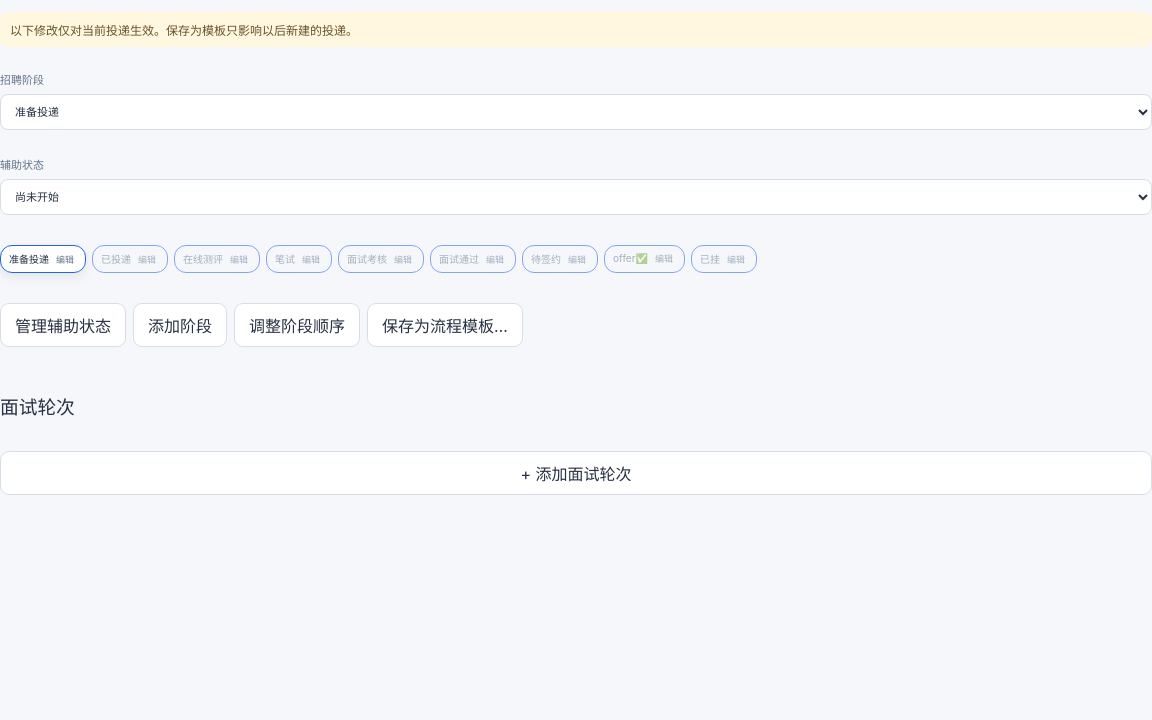
record-scoped workflow forms › saves a complete stage permutation only after explicit confirmation and keeps failures editable
Step 1. Click the button "调整阶段顺序" → coordinates (297, 325), box [234,303,360,347]
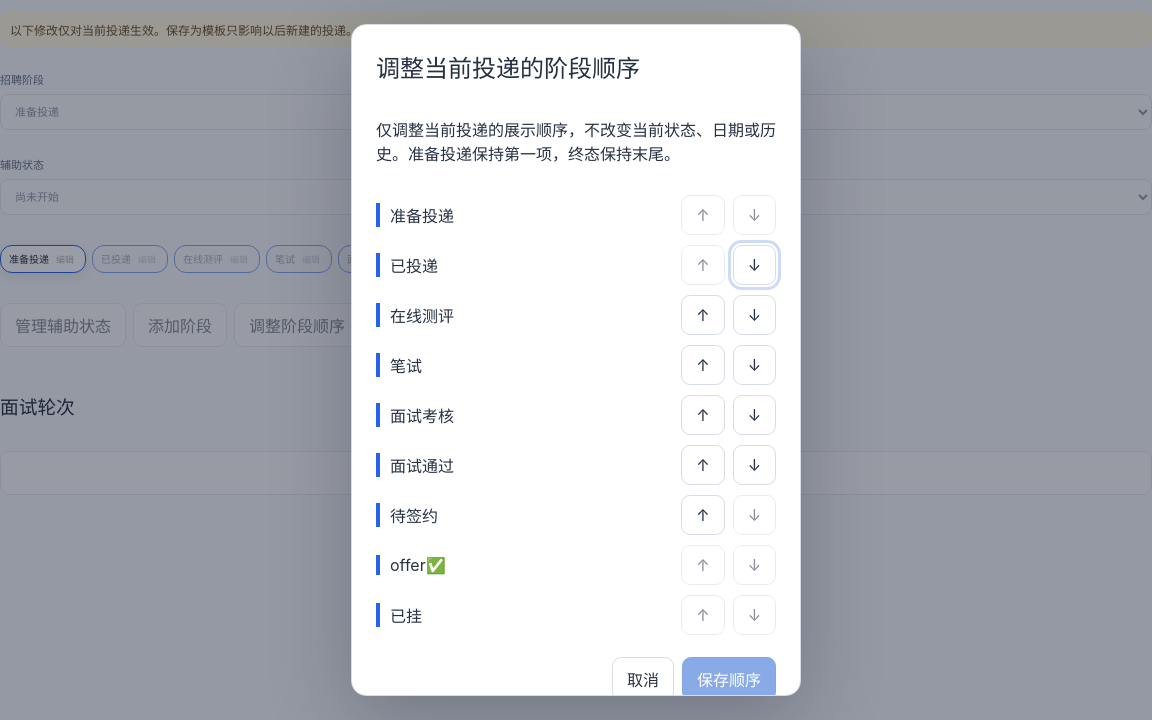
Expected: the button named "下移 待签约" is disabled, [733,495,776,535]
Now the button named "上移 准备投递" is disabled, box [681,195,725,235]
Step 2. Click the button named "上移 面试考核" → coordinates (703, 415), box [681,395,725,435]
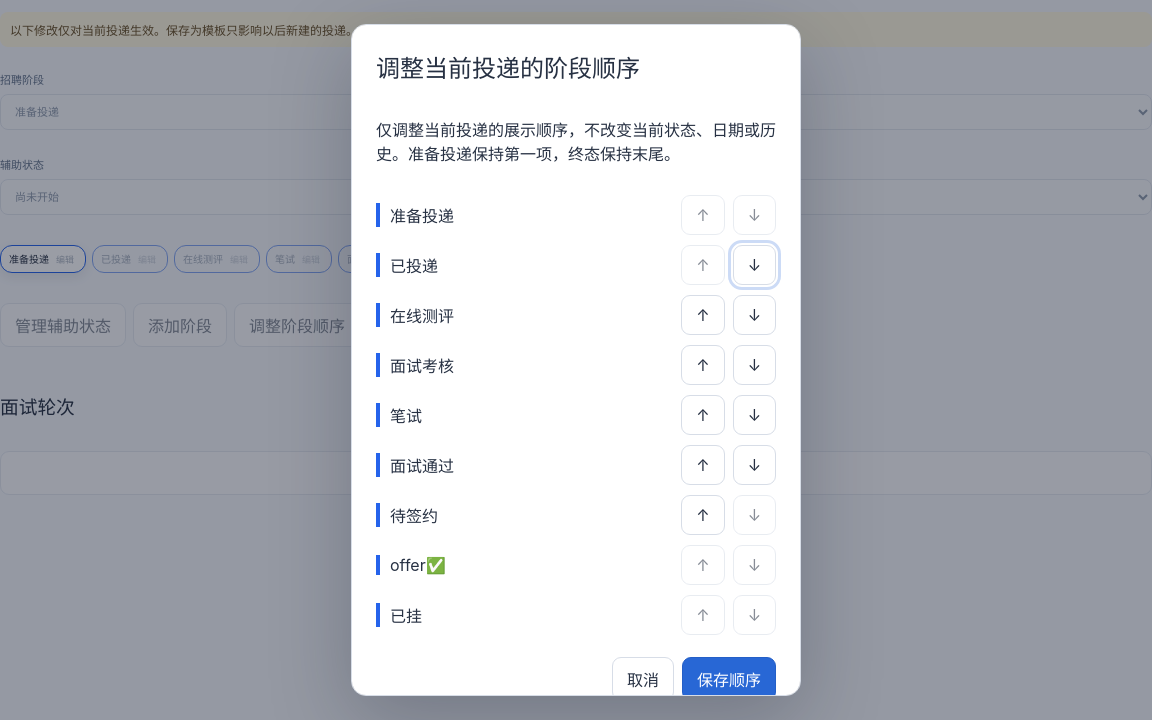
Step 3. Click the button "取消" → coordinates (643, 679), box [612,657,674,701]
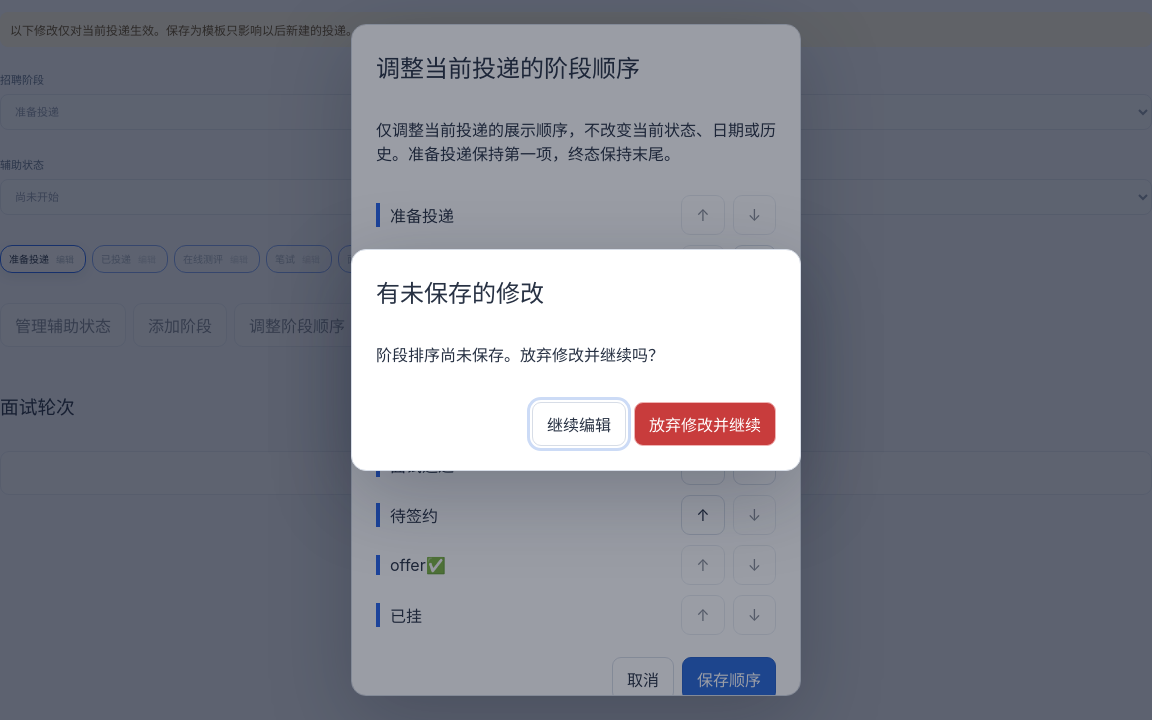
Step 4. Click the button "继续编辑" → coordinates (579, 424), box [532,402,626,446]
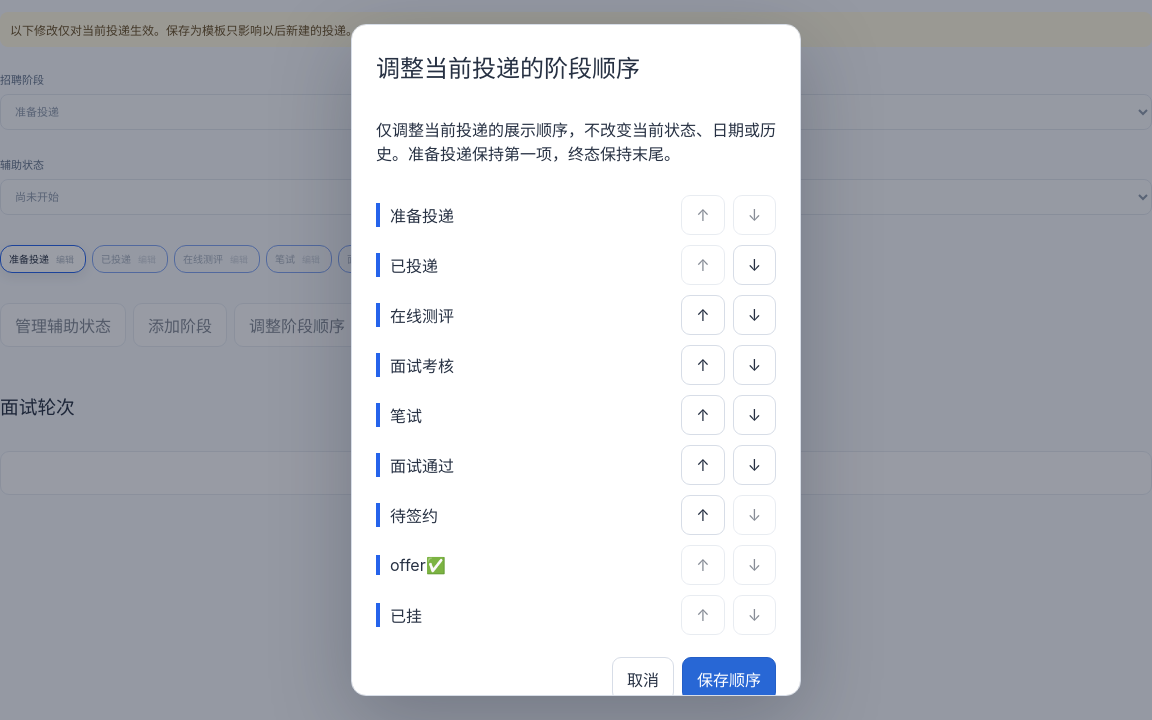
Step 5. Click the button "保存顺序" → coordinates (729, 679), box [682,657,776,701]
(page scrolled)
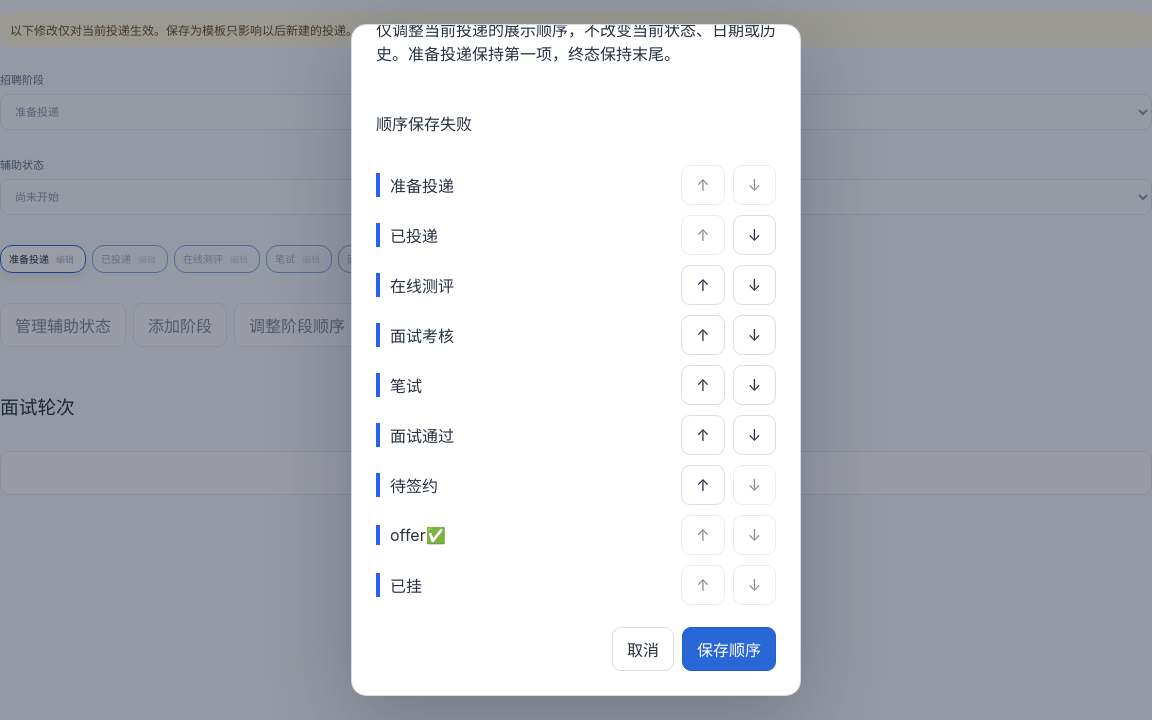
Now the message reads "顺序保存失败", box [376,114,472,134]
Step 6. Click the button "保存顺序" → coordinates (729, 649), box [682,627,776,671]
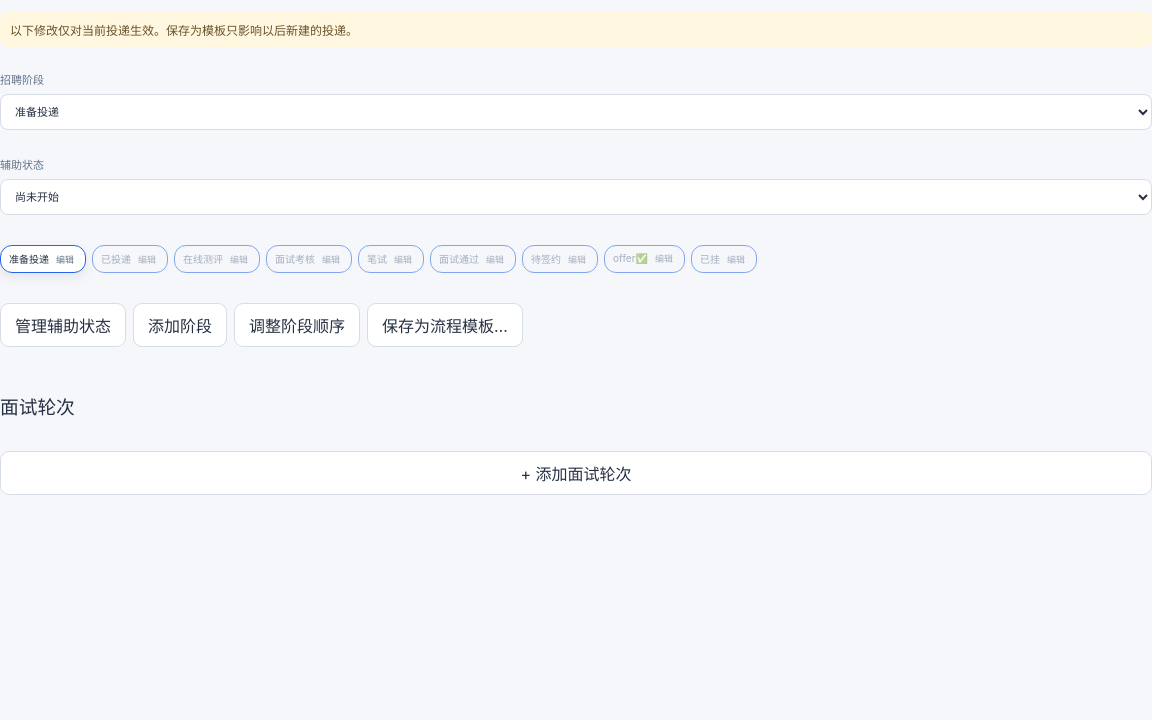
Now the dialog is gone
